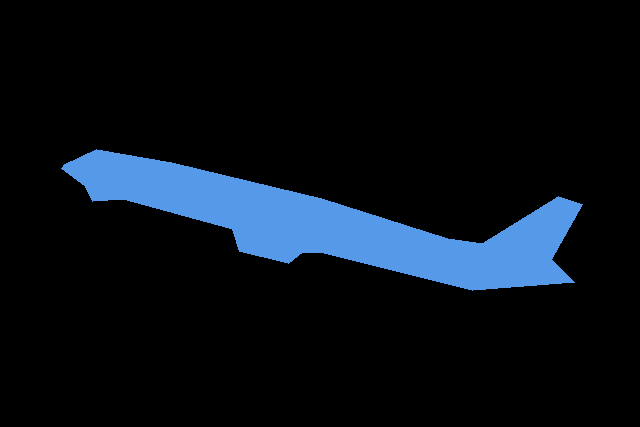Airplane: (61, 149, 583, 290)
